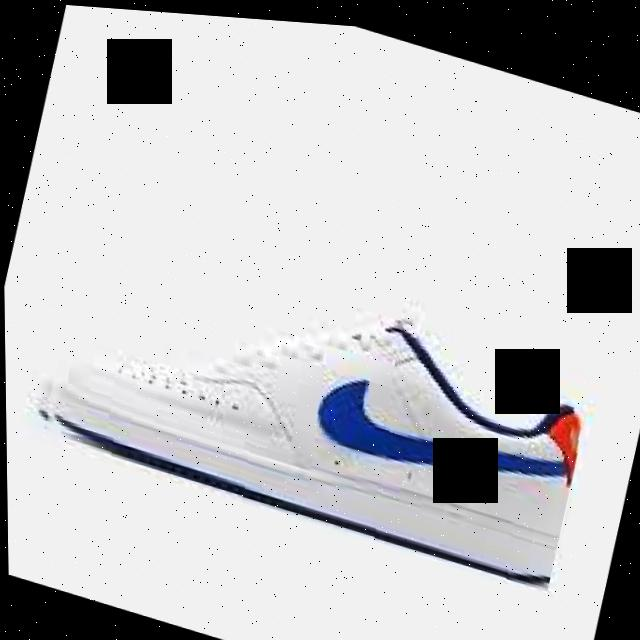shoe: (22, 203, 598, 589)
